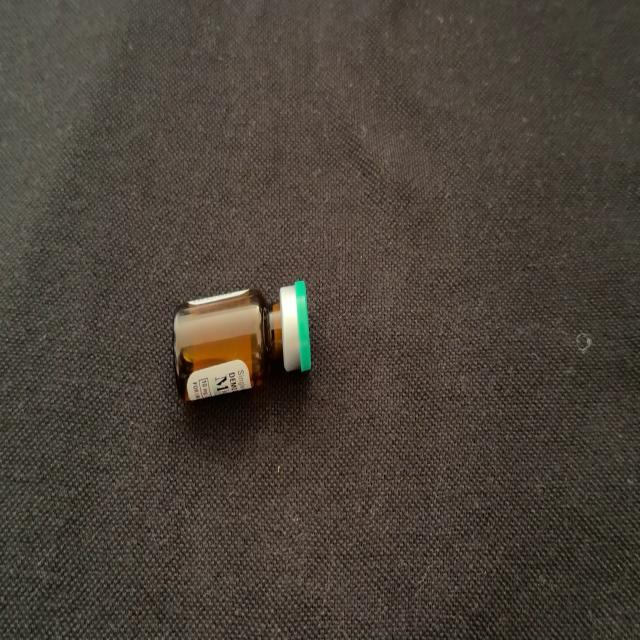midazolm: (176, 283, 310, 401)
